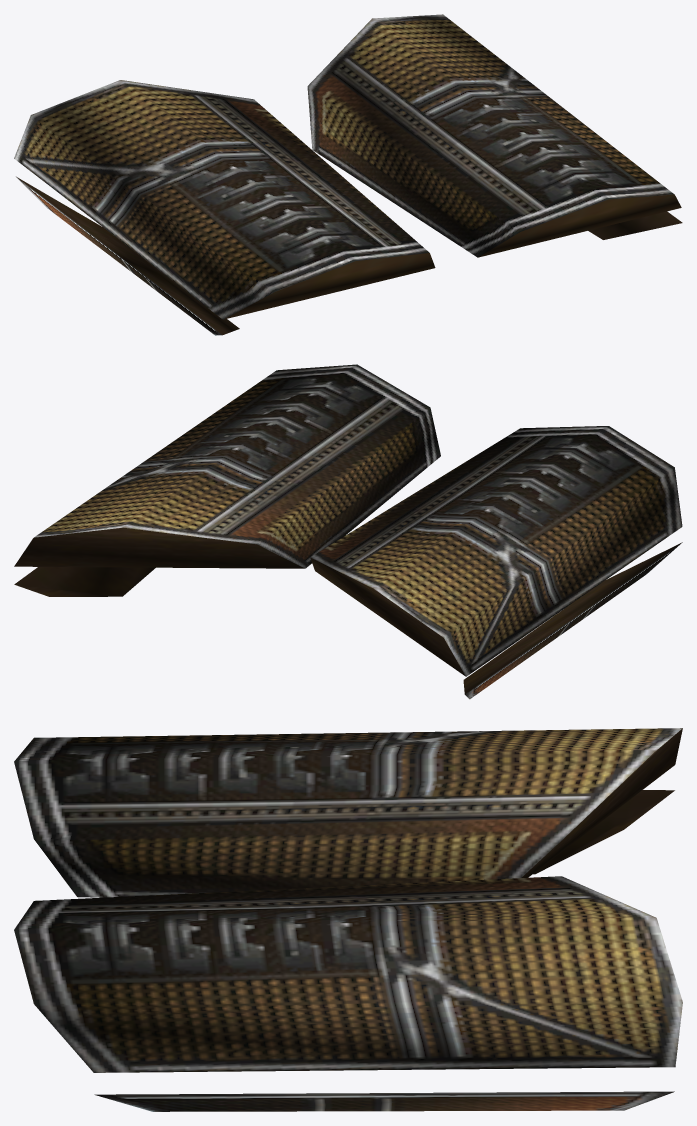
Rendered from LegPads7__CMG.glb.
The picture shows the model from 3 angles, top to bottom: view 1: azimuth 30°, elevation 25°; view 2: azimuth 150°, elevation 25°; view 3: azimuth 270°, elevation 25°; orthographic projection. The views are drawn at different scales.
Visible parts, largest first — view 1: LegPads7; view 2: LegPads7; view 3: LegPads7.
Boxes of the visible parts, bbox=[...] form: LegPads7: bbox=[14, 14, 682, 335]; LegPads7: bbox=[14, 364, 682, 699]; LegPads7: bbox=[14, 728, 682, 1111].
Bounding box in the file's own units: 20.86 × 4.9 × 19.26.
Materials: 1 (1 with a texture image).
